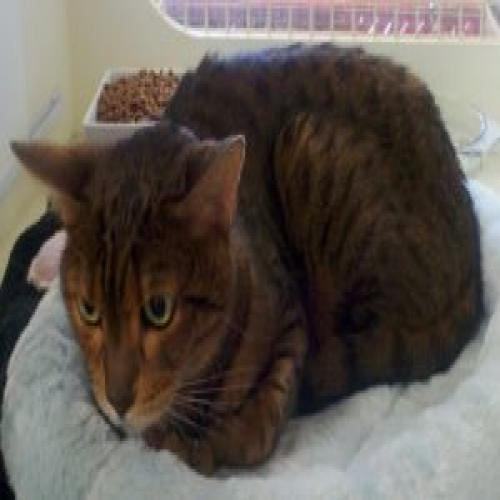bengal: (5, 130, 250, 441)
